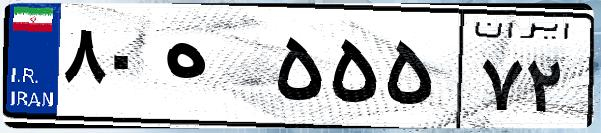0: (110, 28, 158, 98)
2: (525, 38, 570, 115)
5: (270, 28, 330, 110), (385, 28, 445, 110), (330, 28, 385, 110)
7: (475, 38, 525, 113)
8: (57, 26, 110, 100)
ه: (158, 20, 270, 120)
